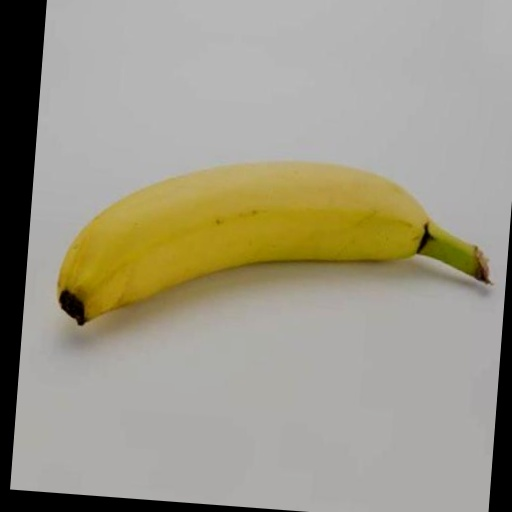fruit: (57, 162, 487, 324)
